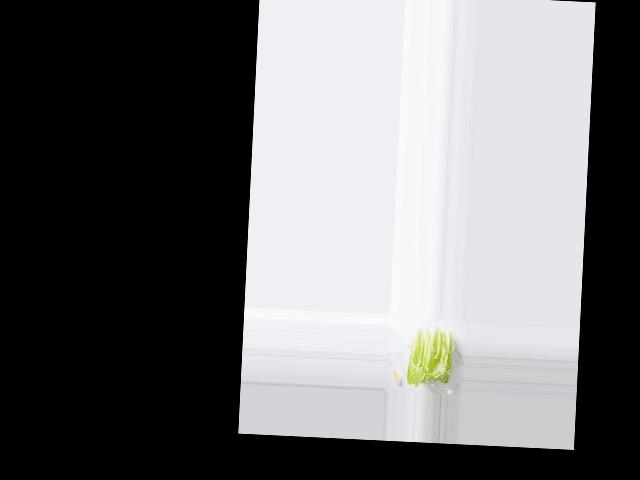lettuce: (404, 325, 456, 389)
